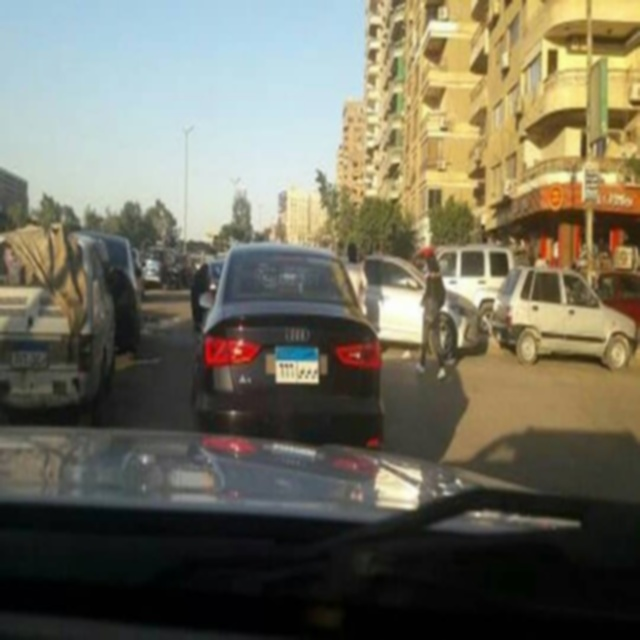License Plate: (274, 339, 321, 387)
